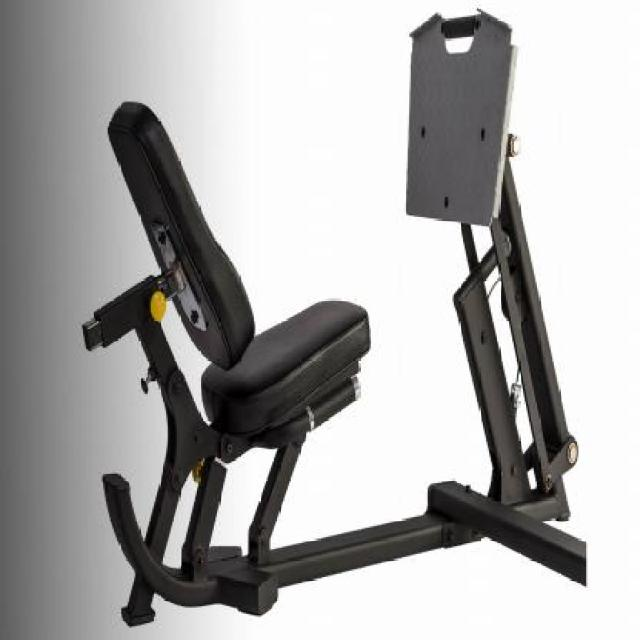leg press: (65, 1, 592, 632)
